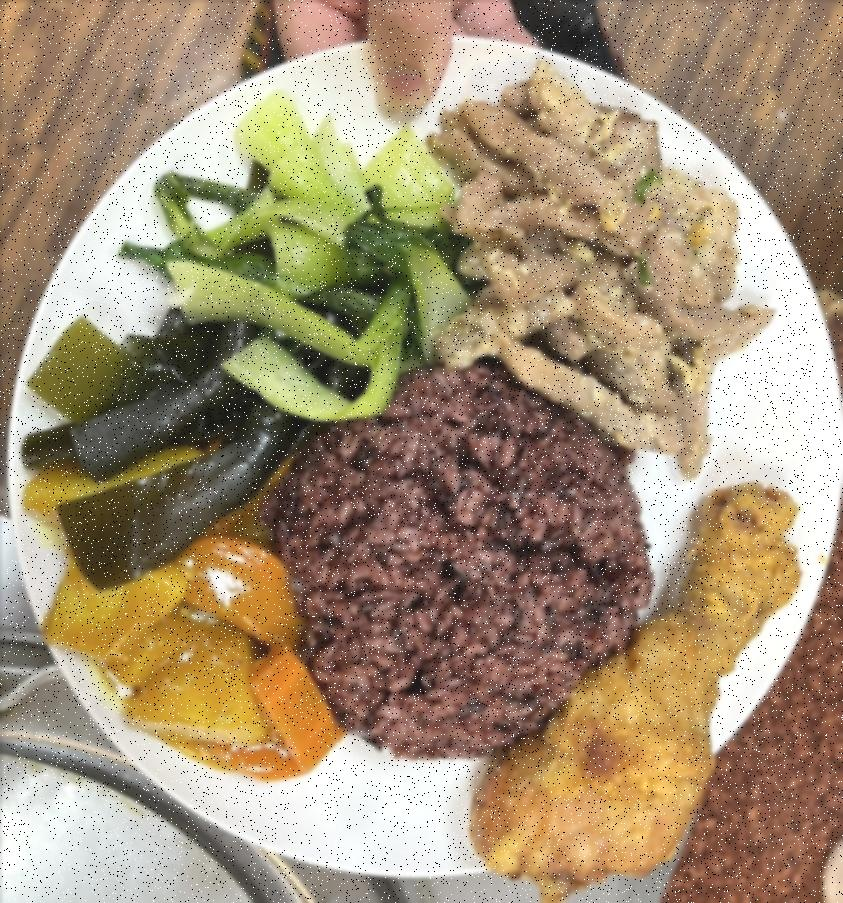plate: (18, 23, 843, 892)
pork with scrambled eggs: (436, 63, 768, 466)
purple rice: (274, 374, 650, 766)
side dish: (23, 439, 335, 780), (151, 100, 442, 421), (37, 309, 323, 578)
small fried chicken leg: (470, 473, 810, 890)
